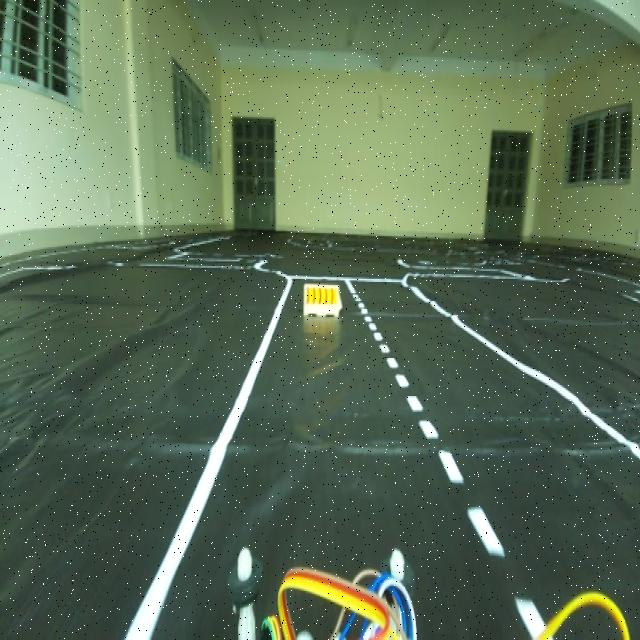roadblock: (297, 272, 342, 322)
